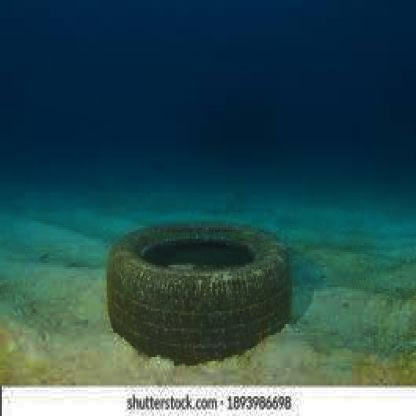tire: (64, 186, 330, 368)
